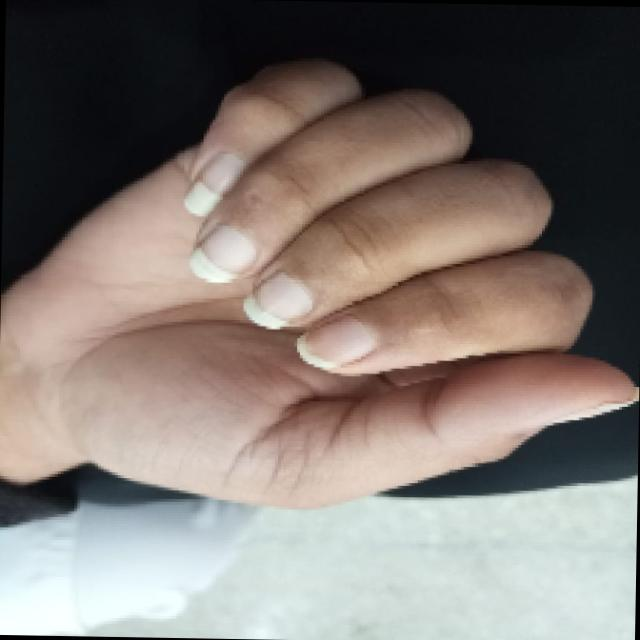Nail: (297, 314, 375, 369), (188, 223, 256, 282), (244, 271, 313, 328), (183, 152, 245, 215)
